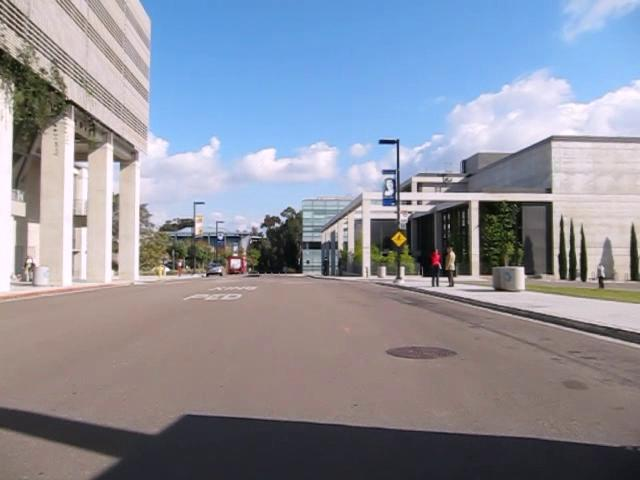pedestrianCrossing: (389, 230, 407, 248)
